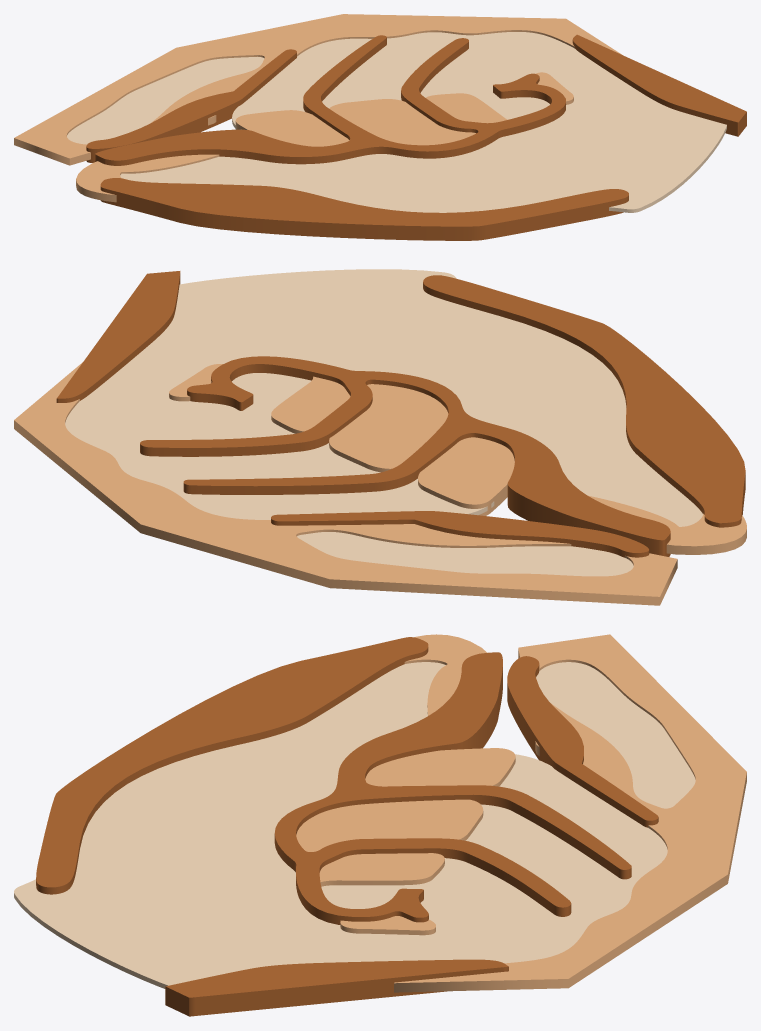
The model's file is emoji_u1f90f_1f3fb.glb.
The picture shows the model from 3 angles, top to bottom: view 1: azimuth 30°, elevation 25°; view 2: azimuth 150°, elevation 25°; view 3: azimuth 270°, elevation 25°; orthographic projection. The views are drawn at different scales.
Parts seen in each view (by area): view 1: emoji_u1f90f_1f3fb; view 2: emoji_u1f90f_1f3fb; view 3: emoji_u1f90f_1f3fb.
Part boxes in pixels (x1,y1,x2,y2): emoji_u1f90f_1f3fb: (14,14,746,240); emoji_u1f90f_1f3fb: (14,269,746,605); emoji_u1f90f_1f3fb: (14,634,746,1016).
Bounding box in the file's own units: 0.0336 × 0.001 × 0.0283.
